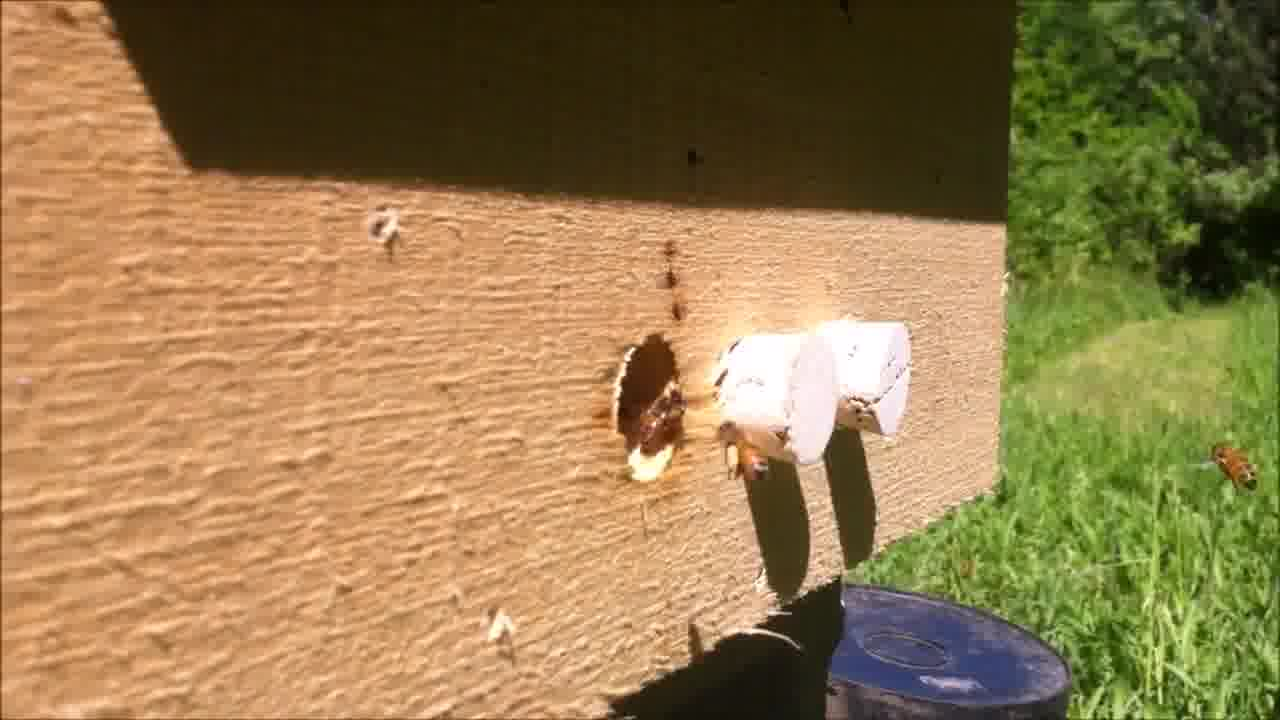pollen: (710, 418, 775, 482)
